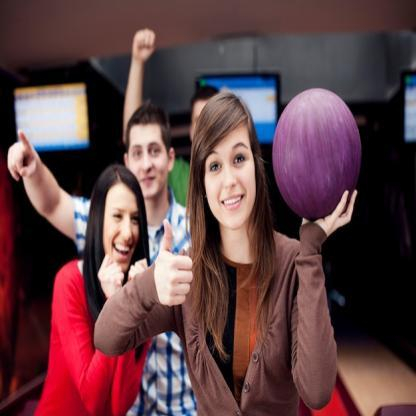thumb_up: (154, 216, 194, 309)
